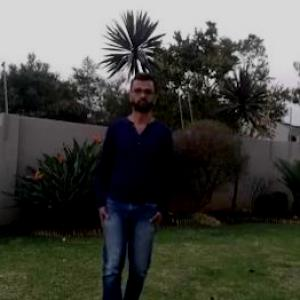follow: (97, 94, 162, 299)
